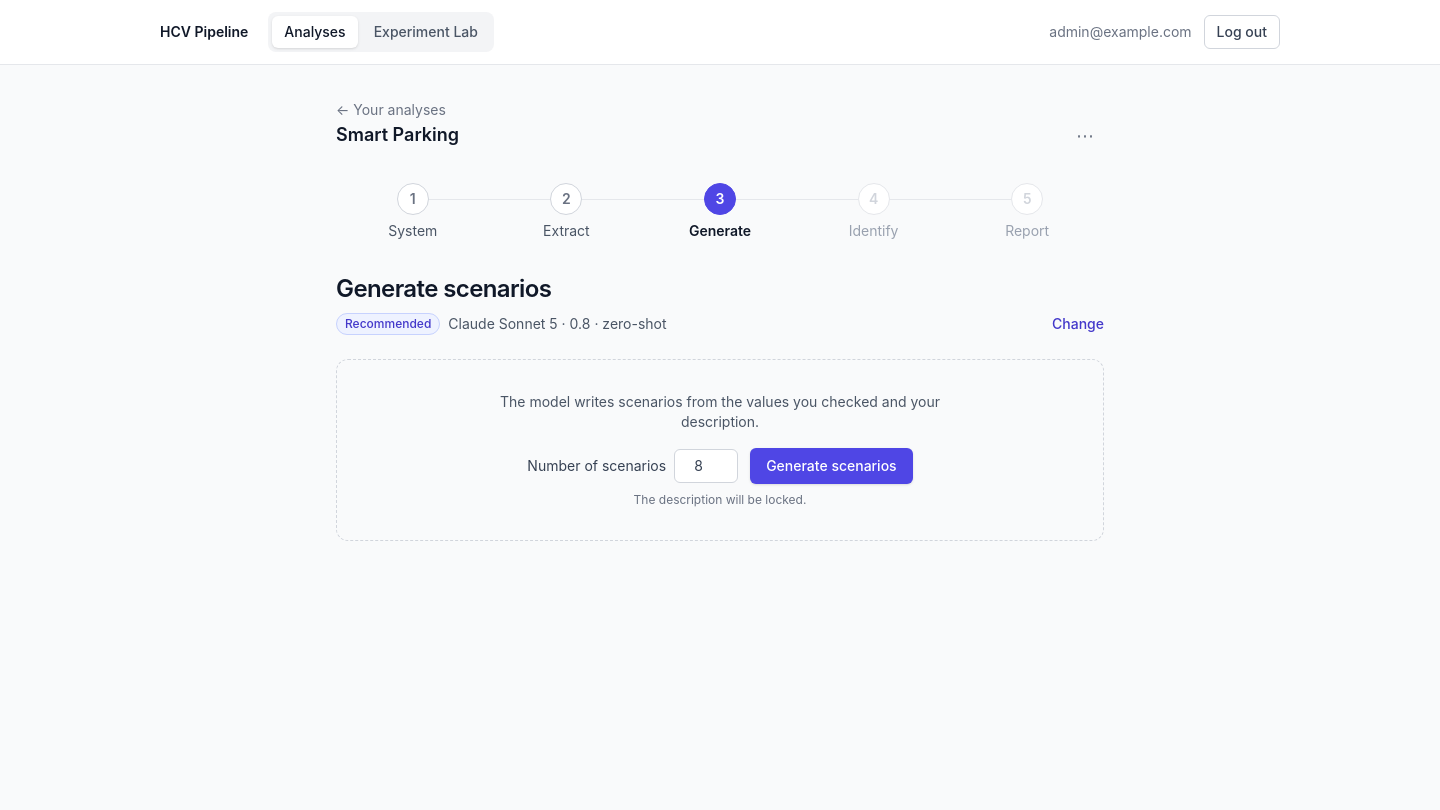
Scenario: Generate step › shows why a start was refused
Click the button "Generate scenarios". click: (831, 466)
box: [750,448,913,484]
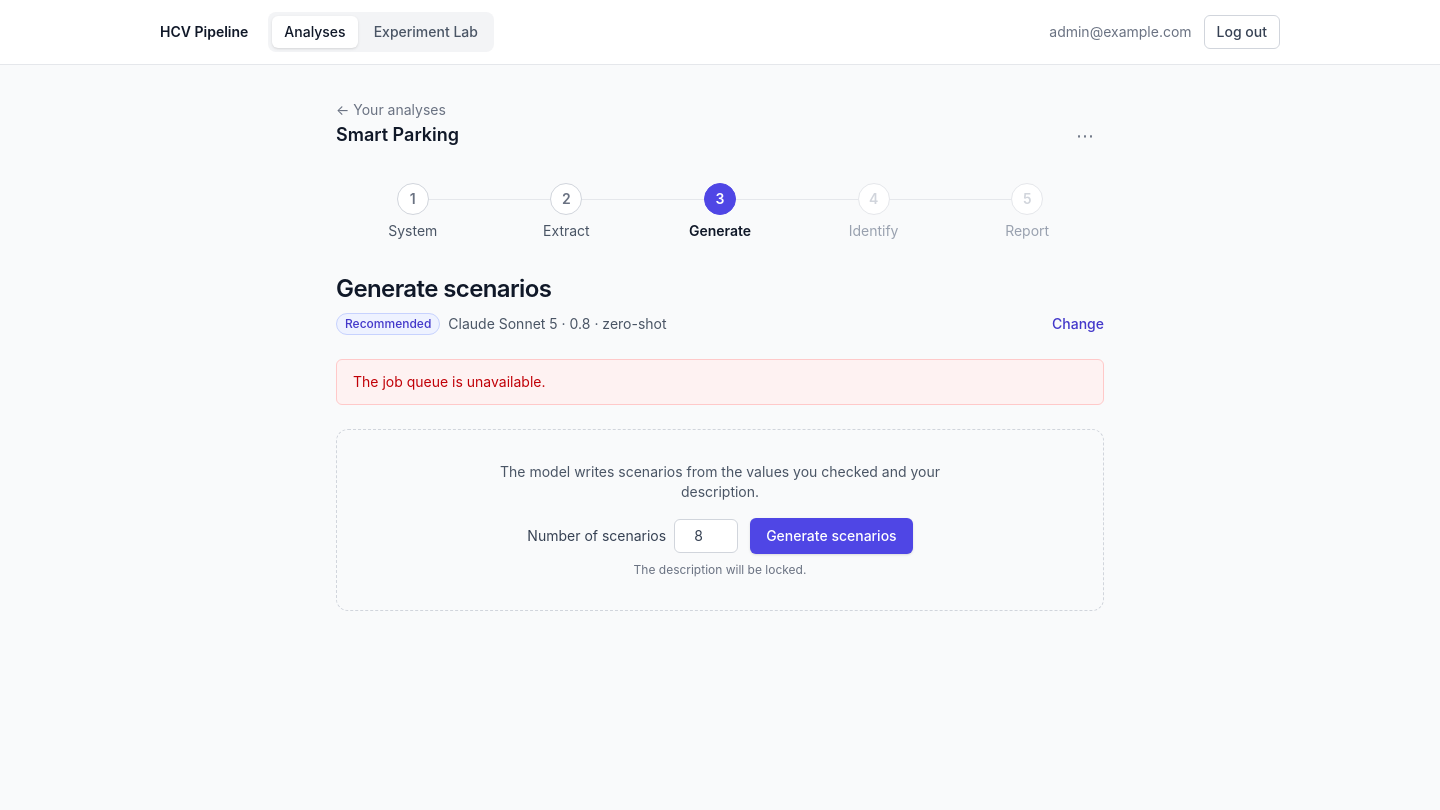
Now the message reads "The job queue is unavailable.", box [353,373,546,390]
